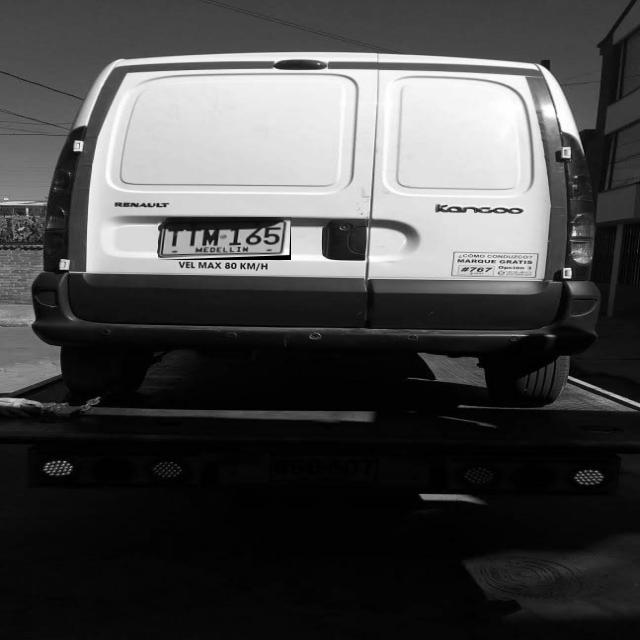plate: (158, 217, 291, 260)
